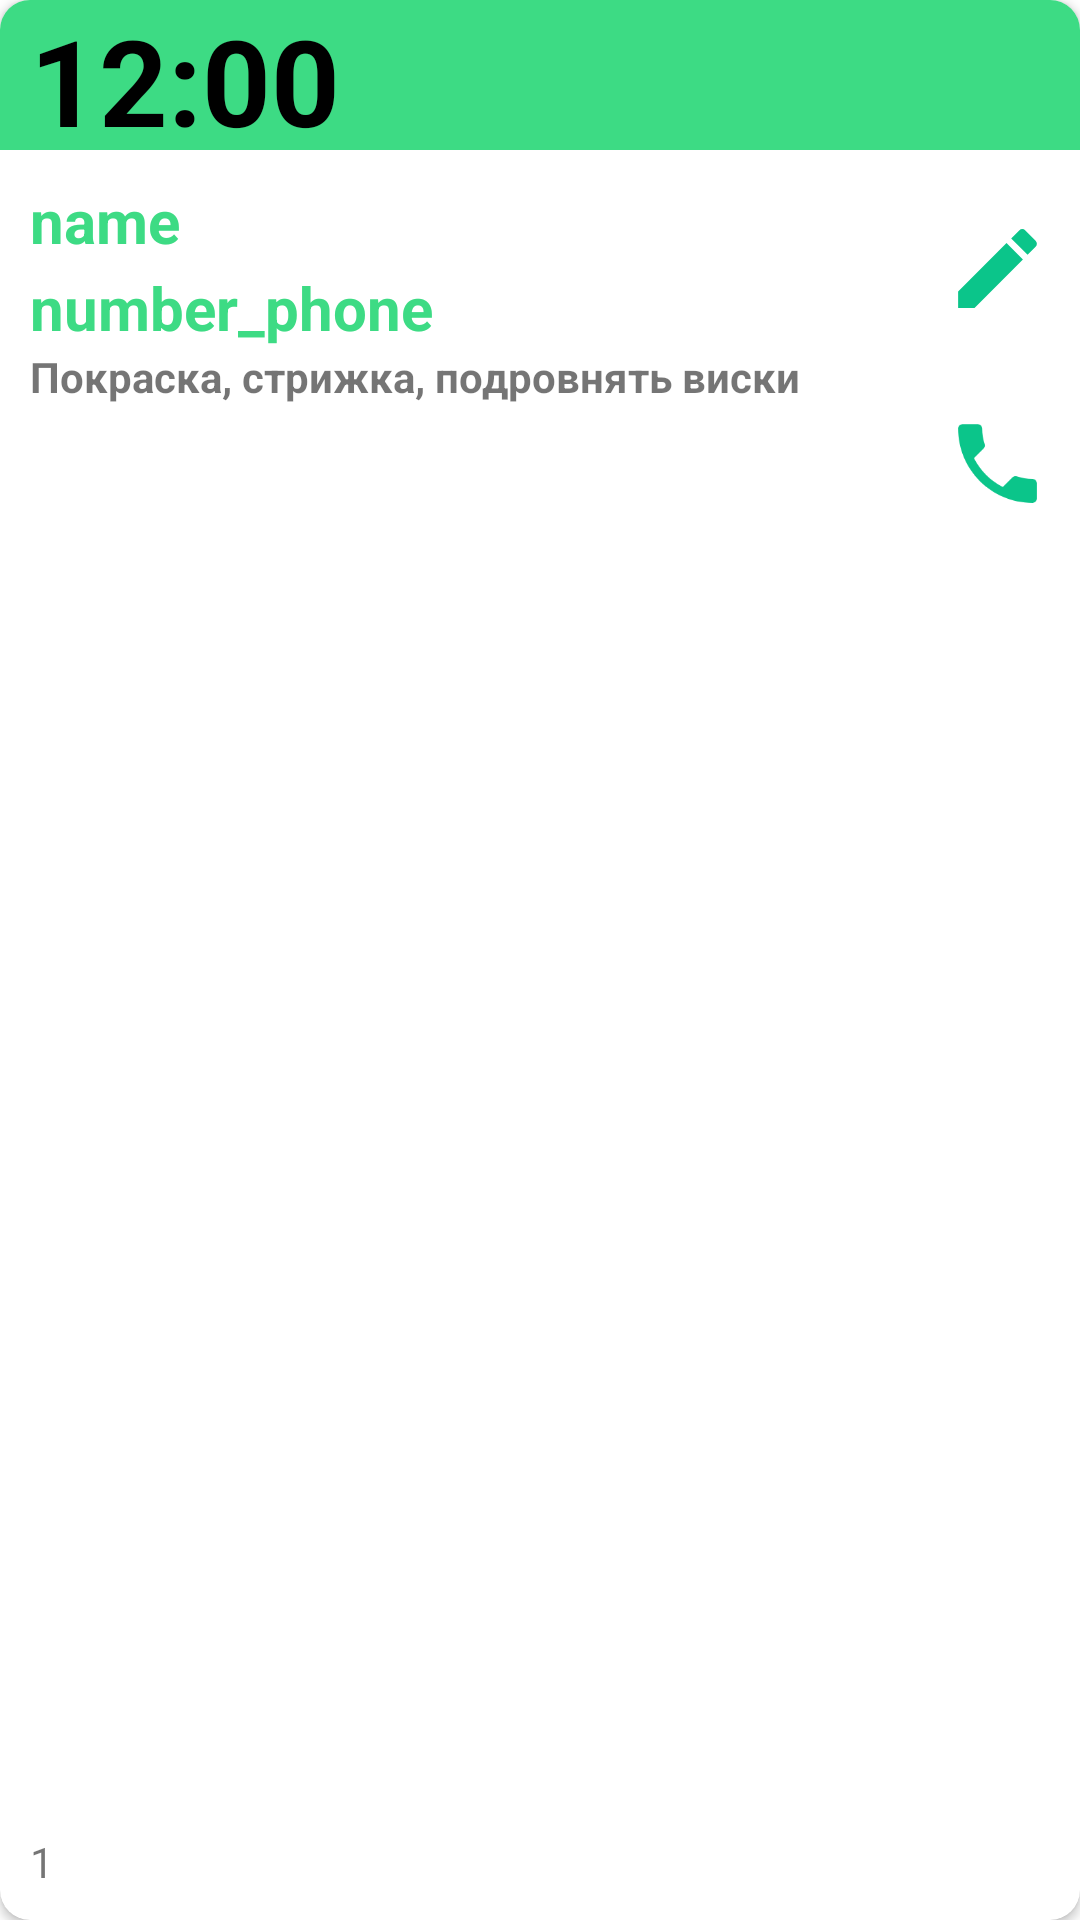

Screen size 1080px x 1920px. Icon name, then its box in pixels as (x1, y1, x2, y2):
edit: (958, 229, 1037, 308)
local phone: (958, 424, 1037, 503)
